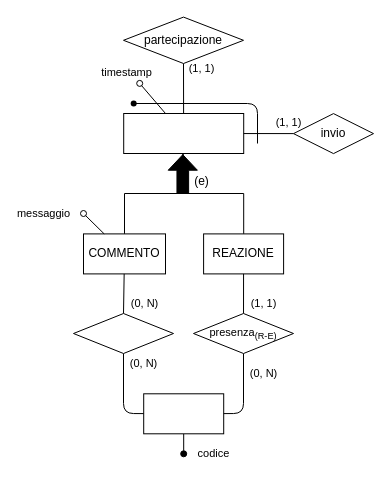
Image size: 392x480. Some labels were removed from this diagram. Each missing label, with the centre of its shape:
"EMOJI" goes at (183,413).
"INTERAZIONE" goes at (183,133).
"presenza (C-E)" goes at (123,333).
